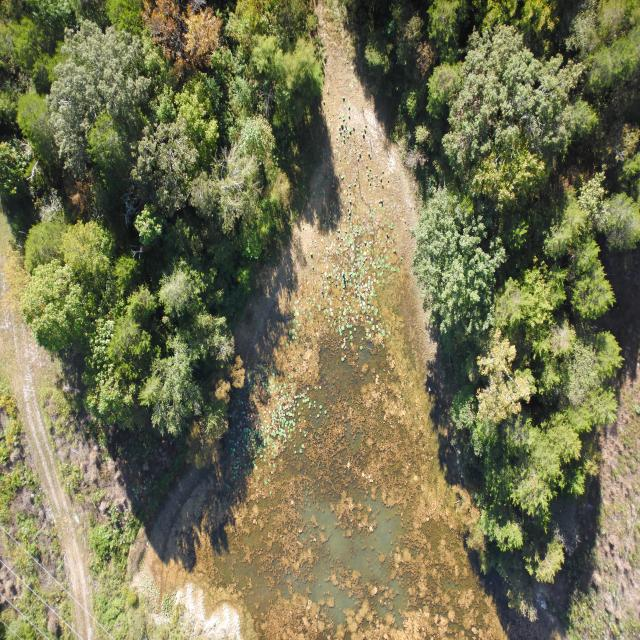Area of Interest: (5, 10, 630, 571)
